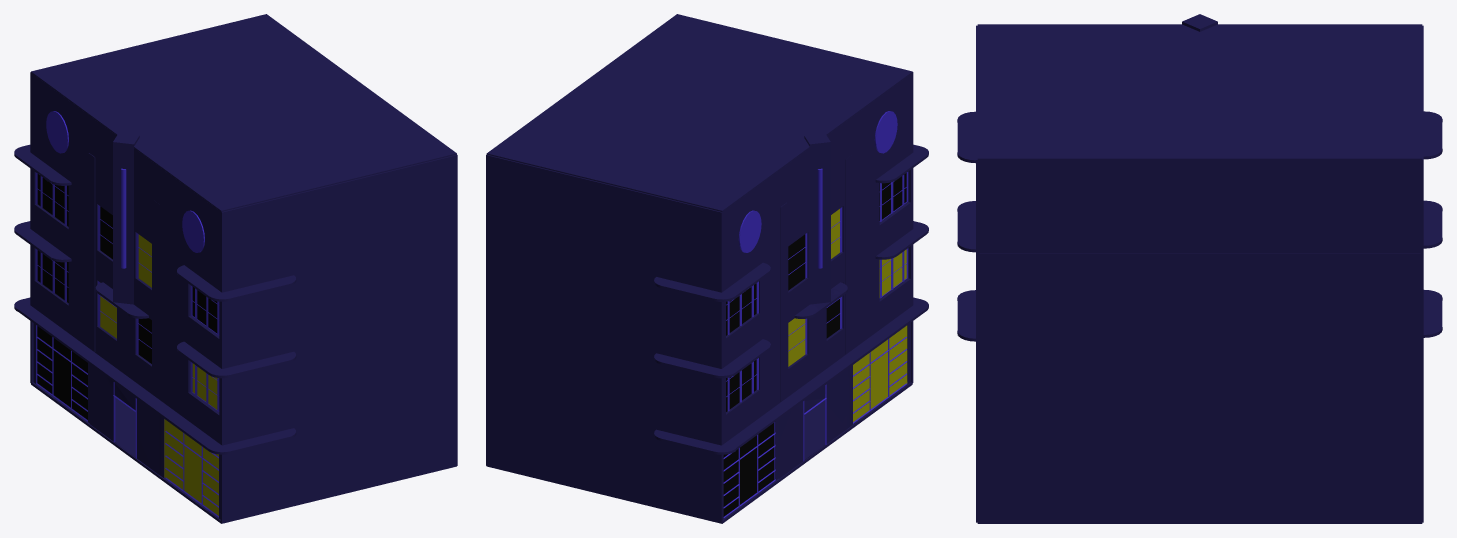
File: Haus 1 gross.fbx
3 views of the same model, side by side, from view 1: azimuth 30°, elevation 25°; view 2: azimuth 150°, elevation 25°; view 3: azimuth 270°, elevation 25° (orthographic). The views are drawn at different scales.
Visible parts, largest first — view 1: pCube82; view 2: pCube82; view 3: pCube82.
Part boxes in pixels (<box>): pCube82: <box>14,14,457,523</box>; pCube82: <box>486,14,928,523</box>; pCube82: <box>957,14,1442,523</box>.
Size of the model in its own units: 1059 by 1280 by 1528.
